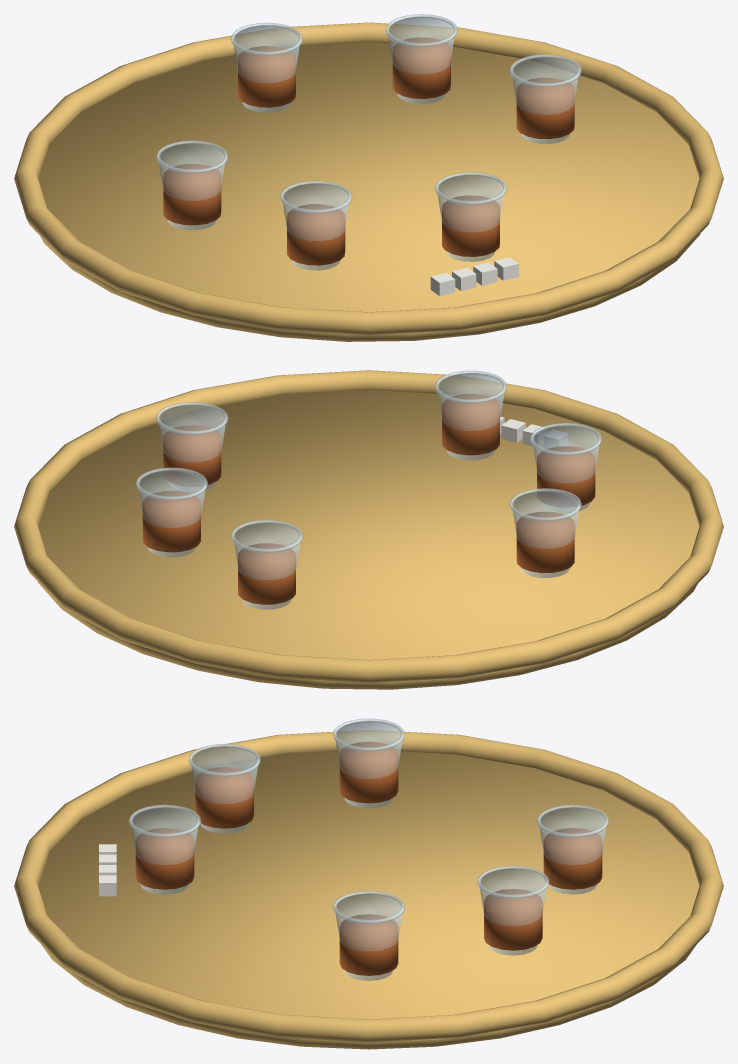
Rendered from cay_tepsisi.glb.
The picture shows the model from 3 angles, top to bottom: view 1: azimuth 30°, elevation 25°; view 2: azimuth 150°, elevation 25°; view 3: azimuth 270°, elevation 25°; orthographic projection.
Parts seen in each view (by area): view 1: Tray, TrayRim, Glass5, Glass1, Glass2, Glass3, Glass0, Glass4, Tea5, Tea4, Tea2, Tea0 (+8 smaller); view 2: Tray, TrayRim, Glass1, Glass3, Glass4, Glass2, Glass5, Glass0, Tea4, Tea2, Tea1, Tea3 (+8 smaller); view 3: Tray, TrayRim, Glass5, Glass4, Glass2, Glass3, Glass1, Glass0, Tea0, Tea2, Tea3, Tea1 (+8 smaller).
Boxes of the visible parts, <box> form: Tray: <box>38,42,700,341</box>; TrayRim: <box>14,22,723,335</box>; Glass5: <box>282,183,349,270</box>; Glass1: <box>233,25,300,112</box>; Glass2: <box>158,143,225,230</box>; Glass3: <box>437,174,504,261</box>; Glass0: <box>512,57,579,143</box>; Glass4: <box>388,17,455,103</box>; Tea5: <box>287,204,345,265</box>; Tea4: <box>392,37,450,98</box>; Tea2: <box>163,164,221,225</box>; Tea0: <box>516,77,574,139</box>; Tray: <box>37,390,699,689</box>; TrayRim: <box>14,370,723,682</box>; Glass1: <box>233,522,300,609</box>; Glass3: <box>437,373,504,460</box>; Glass4: <box>138,470,205,557</box>; Glass2: <box>512,491,579,578</box>; Glass5: <box>532,425,599,511</box>; Glass0: <box>158,404,225,491</box>; Tea4: <box>142,490,200,552</box>; Tea2: <box>516,511,574,573</box>; Tea1: <box>238,543,295,604</box>; Tea3: <box>442,394,499,455</box>; Tray: <box>38,751,699,1049</box>; TrayRim: <box>14,730,723,1042</box>; Glass5: <box>190,746,258,833</box>; Glass4: <box>479,868,547,955</box>; Glass2: <box>335,721,402,808</box>; Glass3: <box>131,807,198,894</box>; Glass1: <box>539,807,606,894</box>; Glass0: <box>335,893,402,980</box>; Tea0: <box>339,914,398,975</box>; Tea2: <box>339,741,398,803</box>; Tea3: <box>135,828,194,889</box>; Tea1: <box>543,828,602,889</box>.
Size of the model in its own units: 0.87 by 0.1155 by 0.87.
